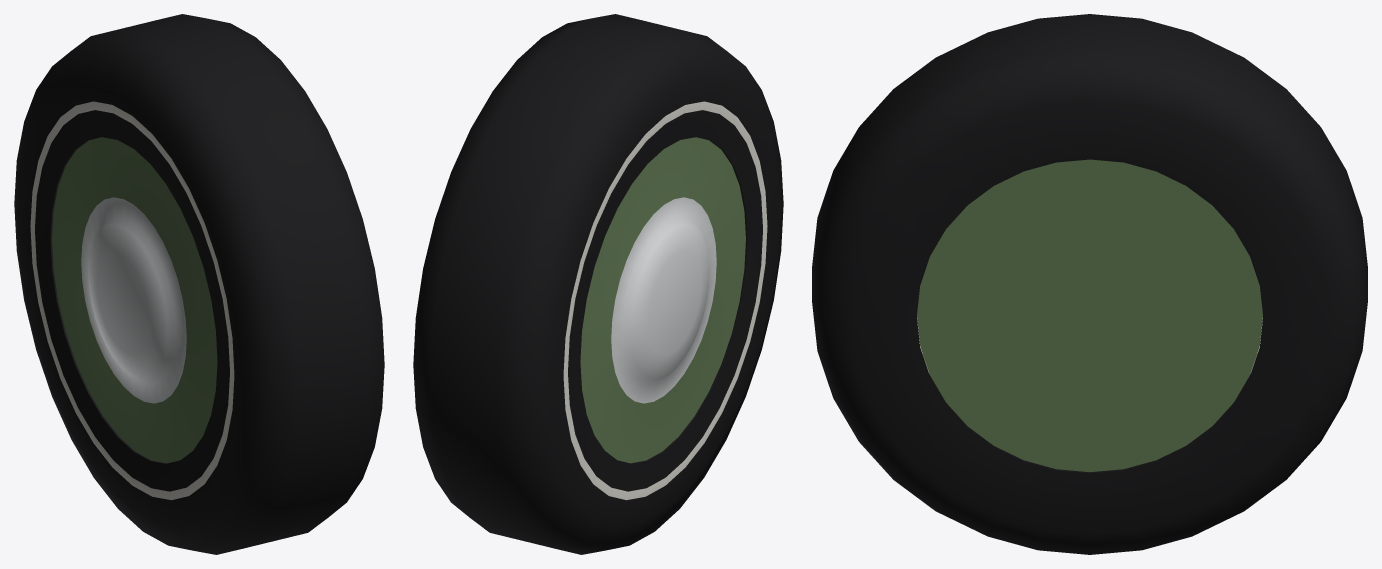
The model's file is wheel_vc_l.glb.
The picture shows the model from 3 angles, left to right: view 1: azimuth 30°, elevation 25°; view 2: azimuth 150°, elevation 25°; view 3: azimuth 270°, elevation 25°; orthographic projection. The views are drawn at different scales.
Parts seen in each view (by area): view 1: Wheel; view 2: Wheel; view 3: Wheel.
Boxes of the visible parts, bbox=[...] form: Wheel: bbox=[14, 14, 384, 554]; Wheel: bbox=[413, 14, 783, 554]; Wheel: bbox=[812, 14, 1367, 554].
Size of the model in its own units: 0.189 by 0.61 by 0.61.
